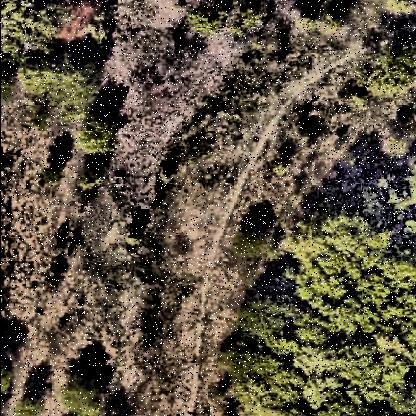tree-top: (329, 250, 416, 395), (294, 195, 390, 296), (209, 336, 303, 410), (20, 53, 108, 104), (4, 2, 76, 54), (362, 42, 416, 98), (241, 289, 292, 337), (58, 371, 105, 415), (235, 211, 273, 260), (80, 116, 120, 158), (184, 2, 230, 36), (291, 1, 325, 37), (76, 160, 110, 192), (321, 5, 353, 35), (16, 391, 48, 416), (43, 161, 67, 187)
